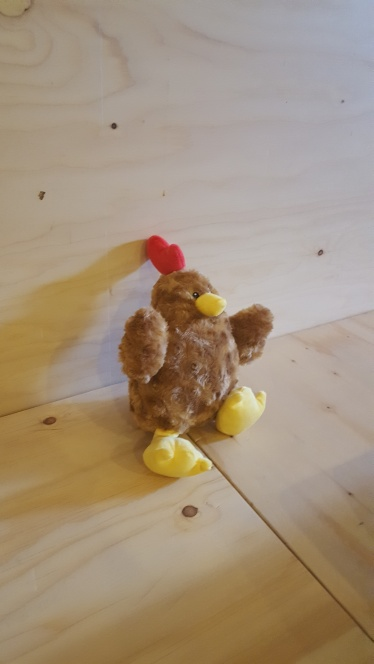chicken_left: (117, 230, 208, 475)
